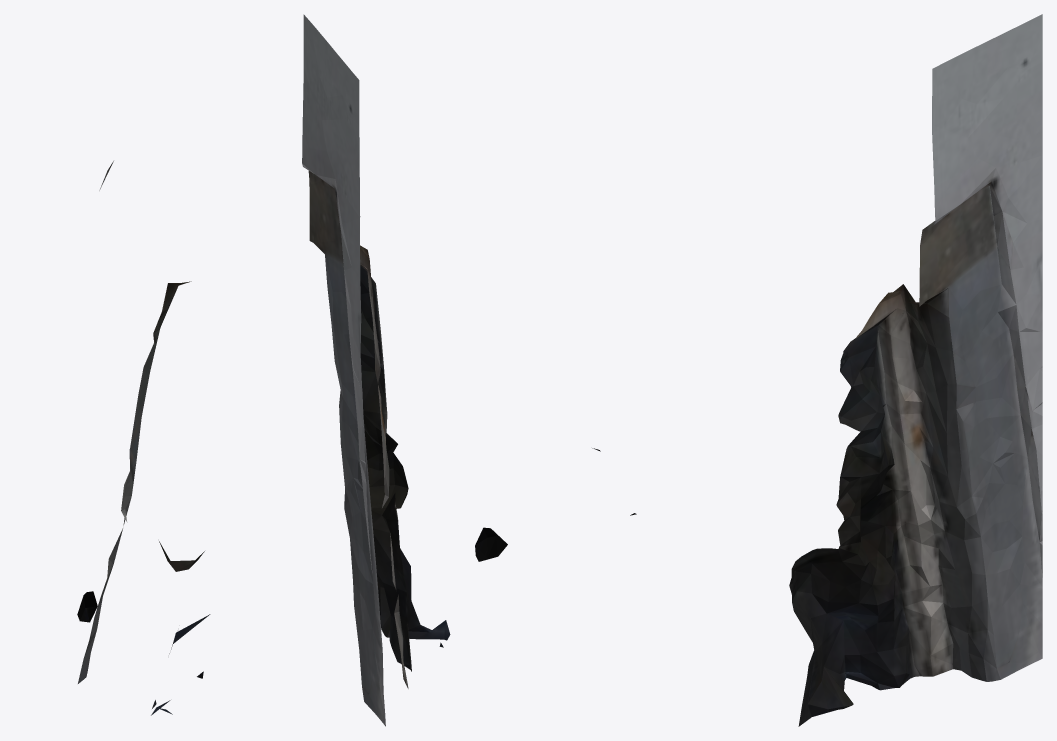
3 renders of one model, left to right at view 1: azimuth 30°, elevation 25°; view 2: azimuth 150°, elevation 25°; view 3: azimuth 270°, elevation 25°, orthographic. The views are drawn at different scales.
Bounding box in the file's own units: 0.4535 × 1.67 × 0.9536.
Materials: 1 (1 with a texture image).
